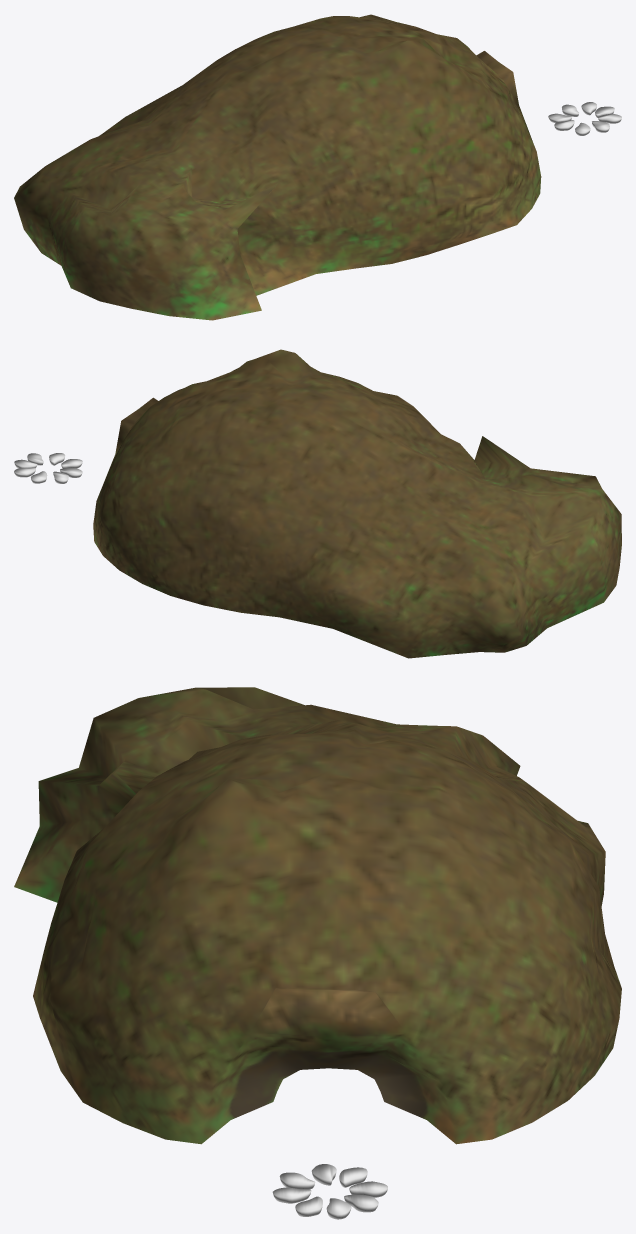
Rendered from Dam.fbx.
The picture shows the model from 3 angles, top to bottom: view 1: azimuth 30°, elevation 25°; view 2: azimuth 150°, elevation 25°; view 3: azimuth 270°, elevation 25°; orthographic projection. The views are drawn at different scales.
Parts seen in each view (by area): view 1: Sphere, Rock_Petals; view 2: Sphere, Rock_Petals; view 3: Sphere, Rock_Petals.
Part boxes in pixels (bbox=[...]): Sphere: bbox=[14, 14, 541, 320]; Rock_Petals: bbox=[548, 102, 621, 135]; Sphere: bbox=[93, 349, 621, 658]; Rock_Petals: bbox=[14, 453, 82, 483]; Sphere: bbox=[14, 687, 621, 1144]; Rock_Petals: bbox=[272, 1164, 387, 1219].
Size of the model in its own units: 6.99 by 2.12 by 3.95.
